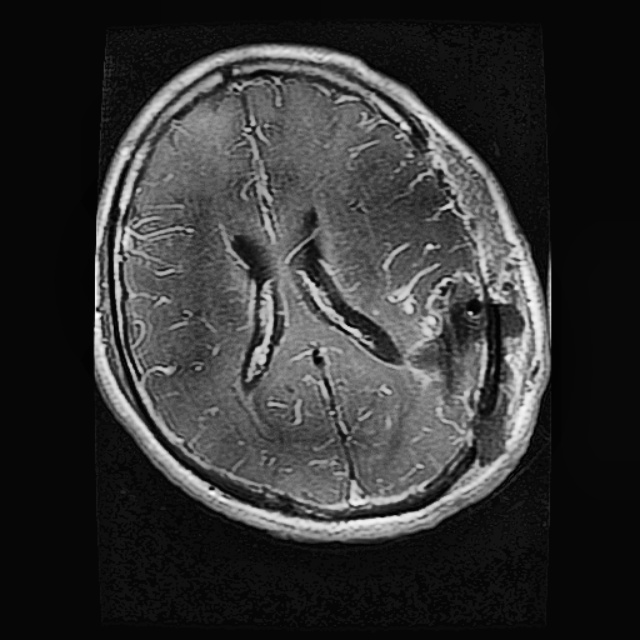Pituitary: (408, 273, 524, 464)
